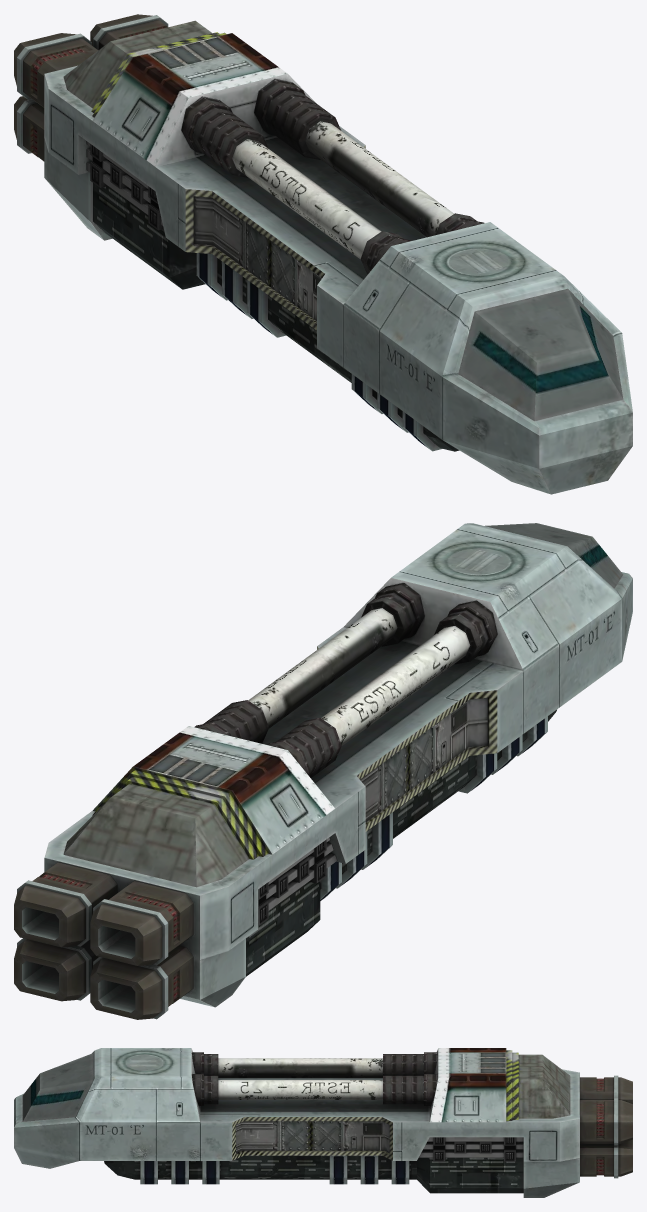
File: rhino.gltf
The picture shows the model from 3 angles, top to bottom: view 1: azimuth 30°, elevation 25°; view 2: azimuth 150°, elevation 25°; view 3: azimuth 270°, elevation 25°; orthographic projection. The views are drawn at different scales.
Visible parts, largest first — view 1: base; view 2: base; view 3: base.
Part boxes in pixels (box(x1,y1,x2,y2)): base: box(14, 14, 632, 494); base: box(14, 523, 632, 1019); base: box(14, 1048, 632, 1197).
Bounding box in the file's own units: 1.73 × 1.92 × 8.45.
1 material, 1 textured.
